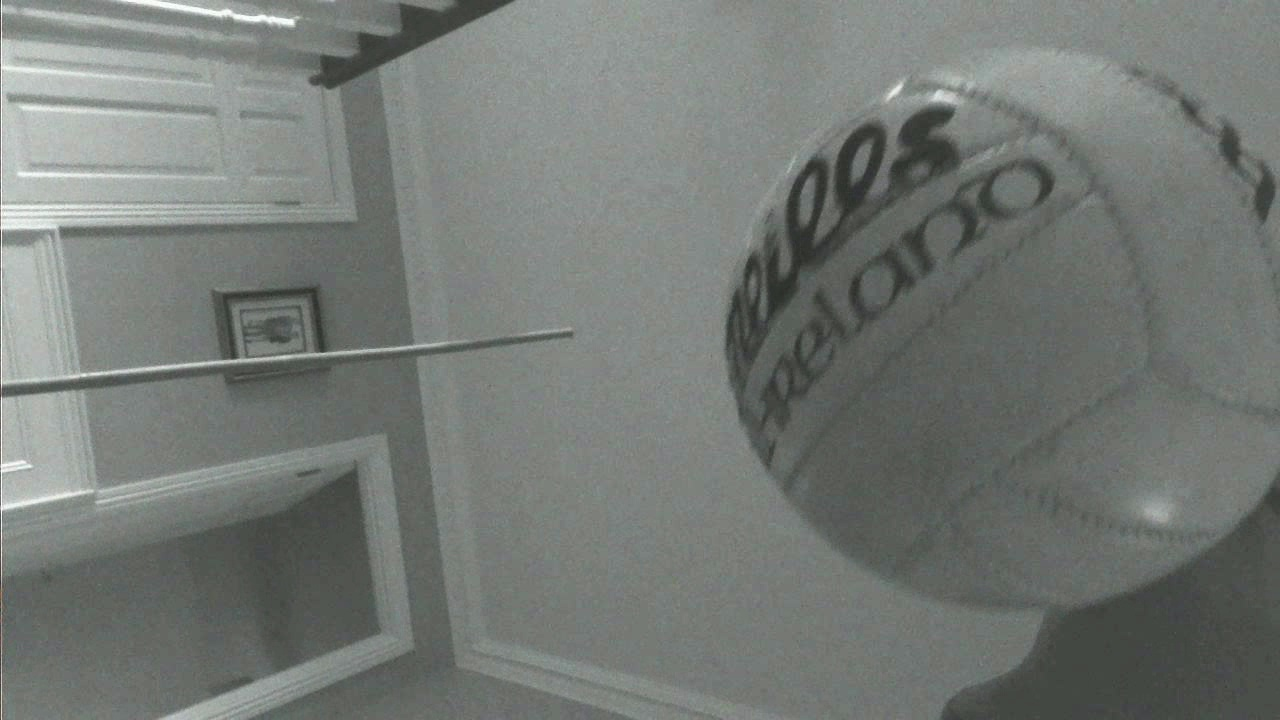Football-Spotter: (724, 50, 1279, 607)
